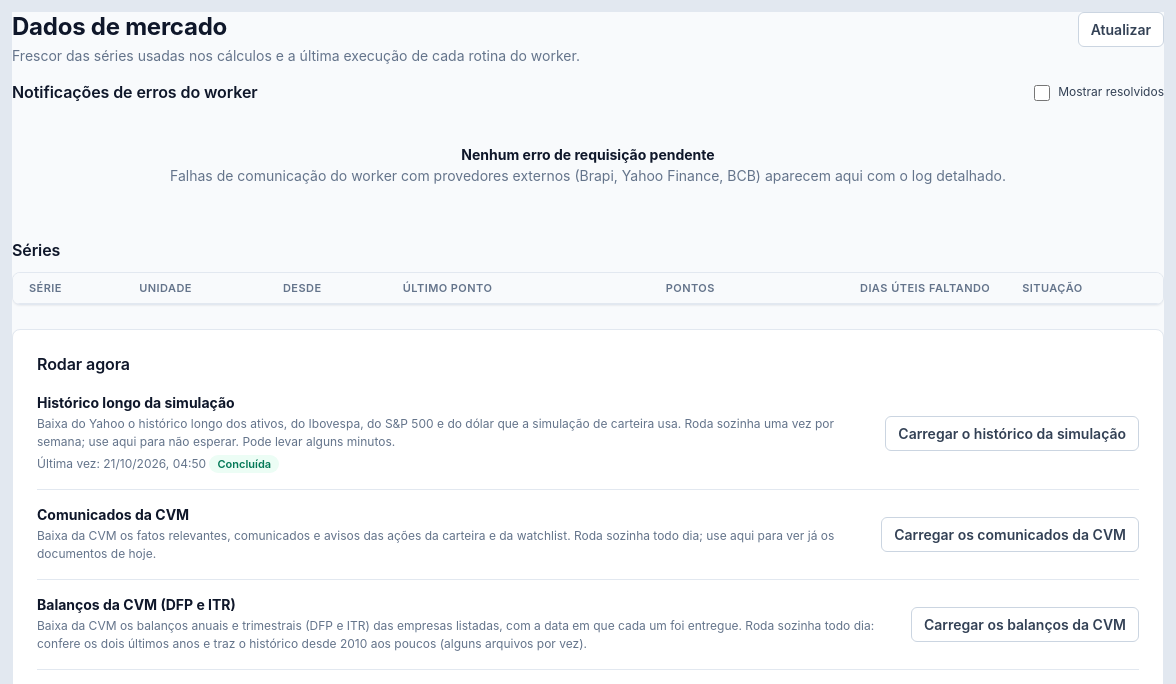
Test: manual job runs › requests the simulation history and follows the request
expect the text "Concluída" is shown: met, box [210, 455, 279, 473]
expect the text "Última vez: 21/10/2026, 04:50 Concluída" is shown: met, box [37, 455, 279, 473]
Click the button "Carregar o histórico da simulação" at (1012,434), box [885, 416, 1139, 451]
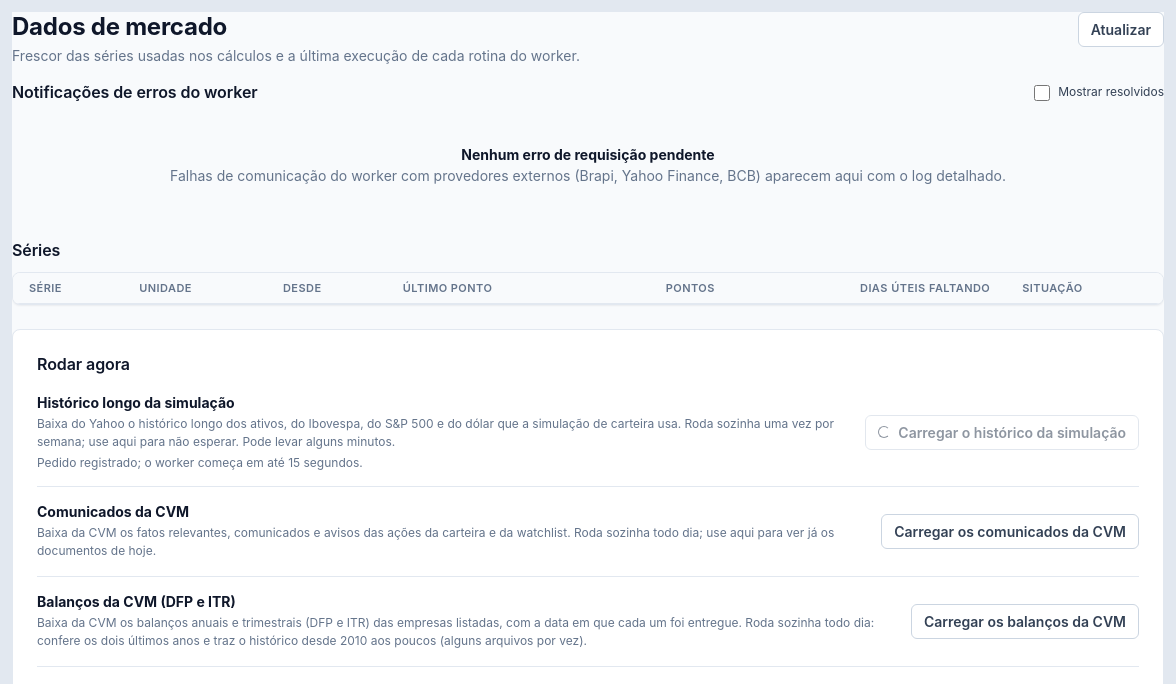
expect the text "Pedido registrado; o worker começa em até 15 segundos." is shown: met, box [37, 455, 363, 470]
expect the button "Carregar o histórico da simulação" is disabled: met, box [865, 414, 1139, 450]
